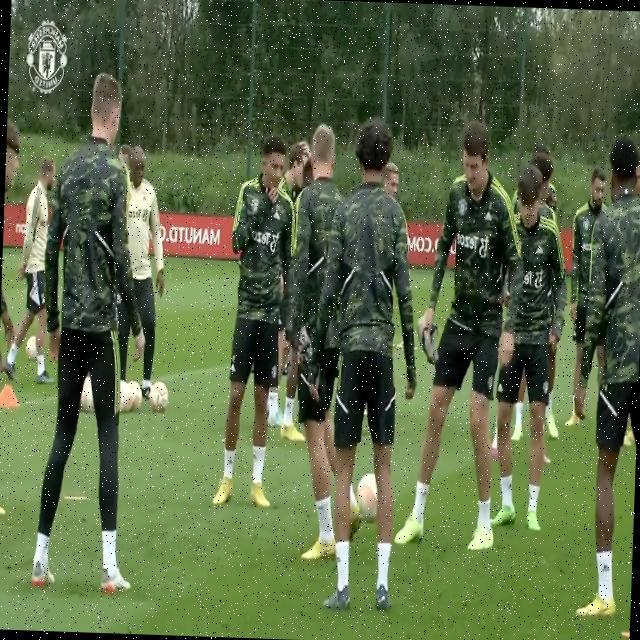Adidas: (599, 560, 611, 576), (534, 242, 544, 256), (484, 208, 493, 223), (273, 207, 281, 220)
